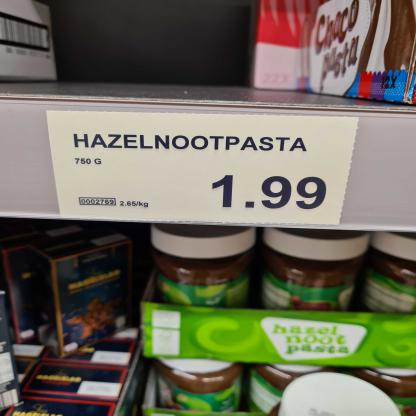prtg: (47, 112, 360, 226)
